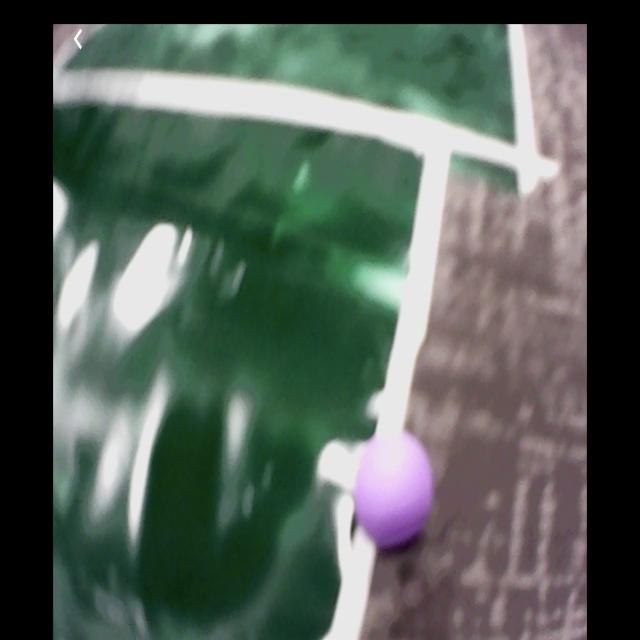ball: (355, 436, 436, 548)
